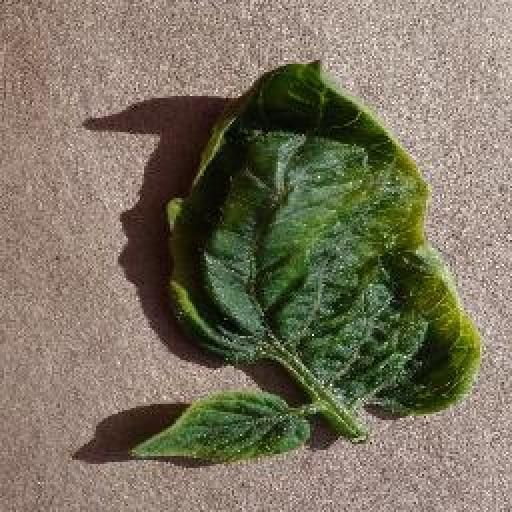disease_tomato: (166, 56, 484, 423), (130, 395, 311, 468)
